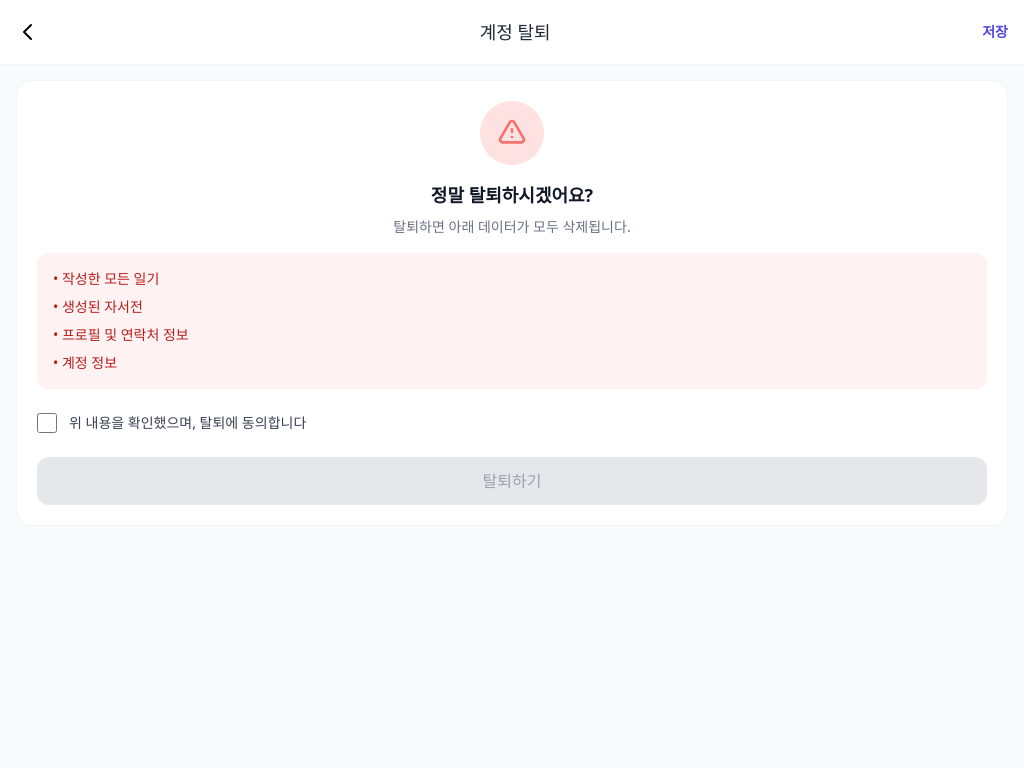
it: Withdraw Flow - Integration Test › processing → error state transition › should show error toast when deletion fails with non-ok response
The width and height of the screenshot is (1024, 768).
Click the checkbox with test id "withdraw-consent-checkbox" at x=47, y=423, box [37,413,57,433]
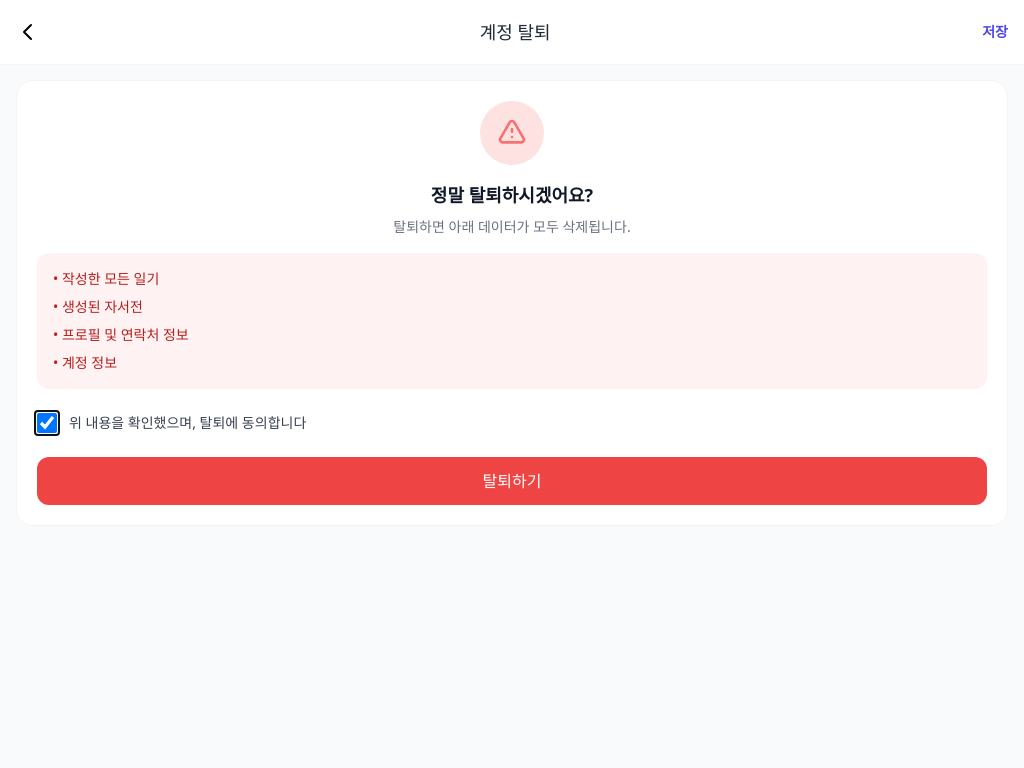
Click the button "탈퇴하기" at x=512, y=481, box [37,457,987,505]
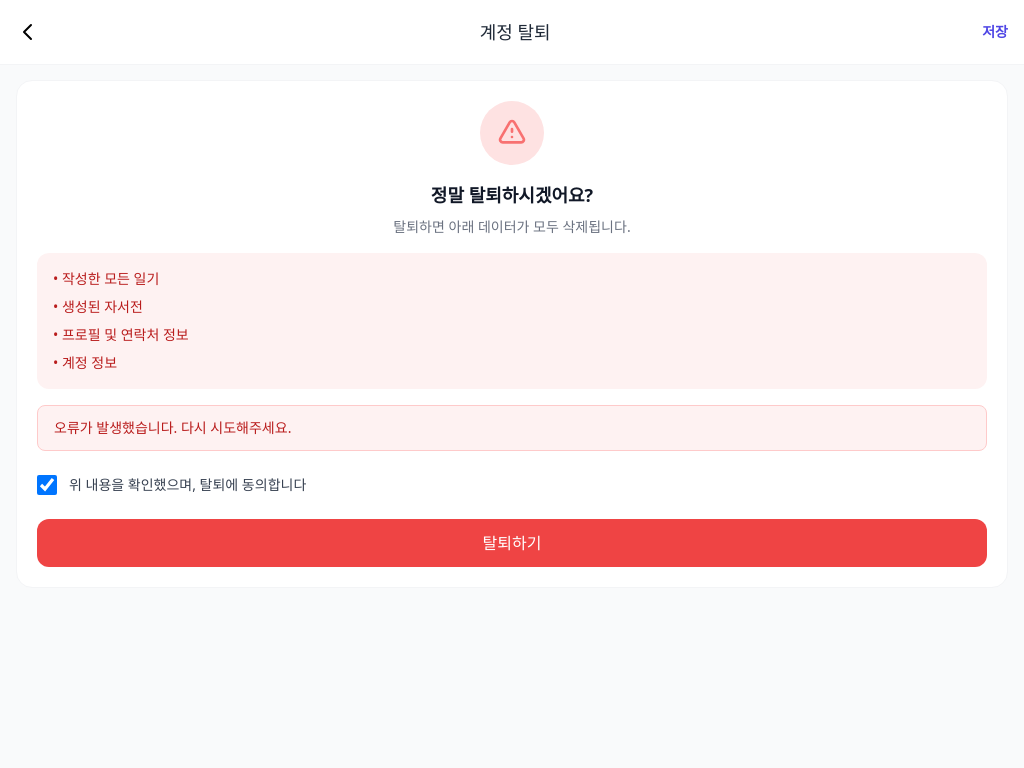
Now the text "오류가 발생했습니다. 다시 시도해주세요." is shown, box [37,405,987,451]
